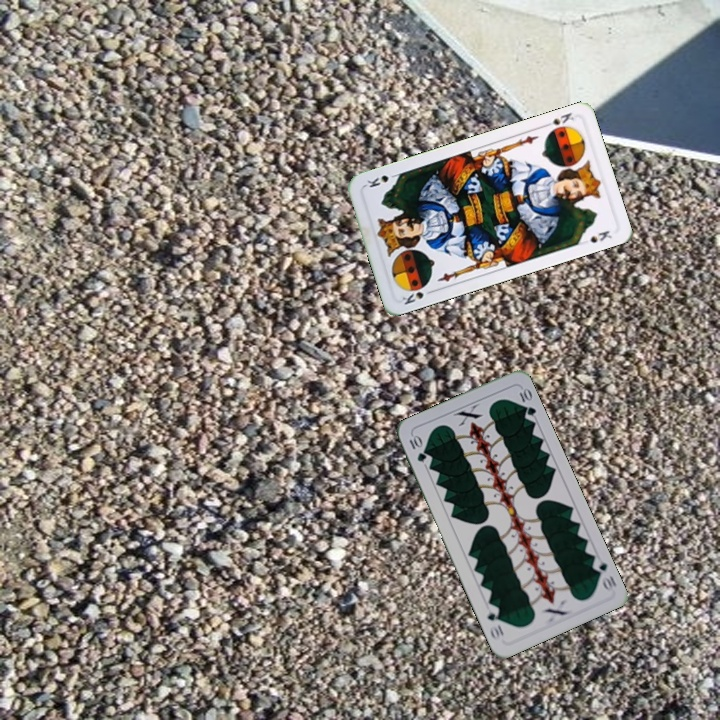G10: (588, 557, 619, 594), (405, 431, 429, 465)
SK: (398, 286, 437, 307), (539, 108, 576, 130)
